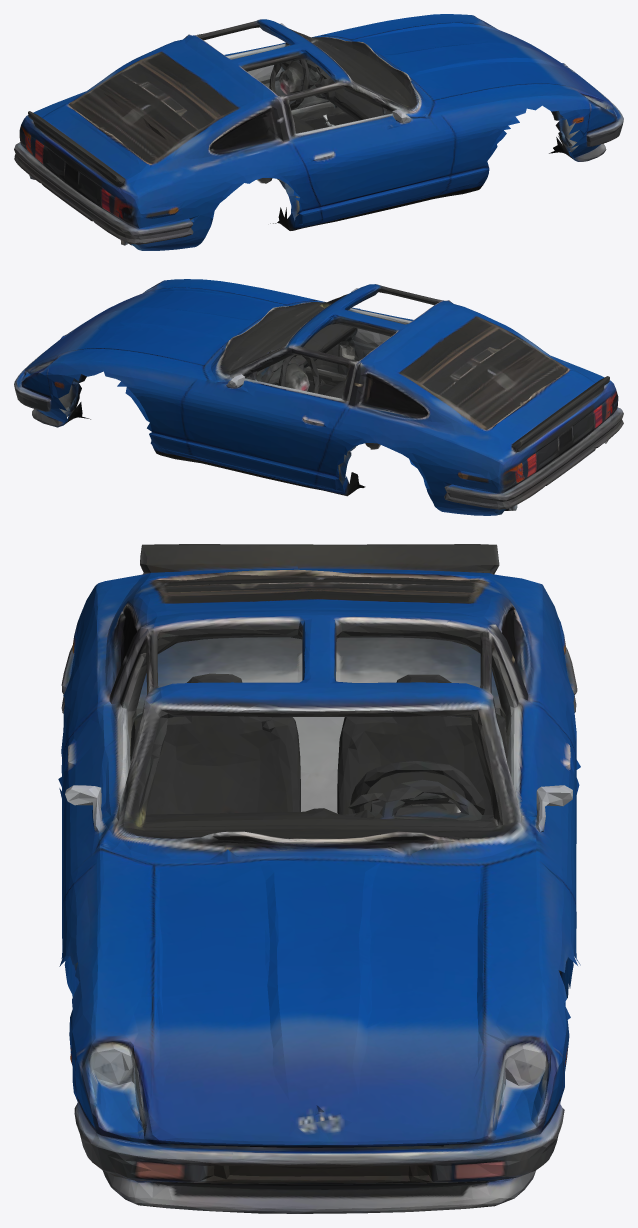
The model's file is body.glb.
3 renders of one model, top to bottom at view 1: azimuth 30°, elevation 25°; view 2: azimuth 150°, elevation 25°; view 3: azimuth 270°, elevation 25°, orthographic. The views are drawn at different scales.
Parts seen in each view (by area): view 1: tripo_node_077be6ad-f452-42d1-9943-9e1932a7ffe7; view 2: tripo_node_077be6ad-f452-42d1-9943-9e1932a7ffe7; view 3: tripo_node_077be6ad-f452-42d1-9943-9e1932a7ffe7.
Part boxes in pixels (bbox=[...]): tripo_node_077be6ad-f452-42d1-9943-9e1932a7ffe7: bbox=[14, 14, 623, 250]; tripo_node_077be6ad-f452-42d1-9943-9e1932a7ffe7: bbox=[14, 279, 623, 515]; tripo_node_077be6ad-f452-42d1-9943-9e1932a7ffe7: bbox=[58, 544, 580, 1213].
Size of the model in its own units: 4.42 by 1.14 by 1.94.
Materials: 1 (1 with a texture image).
